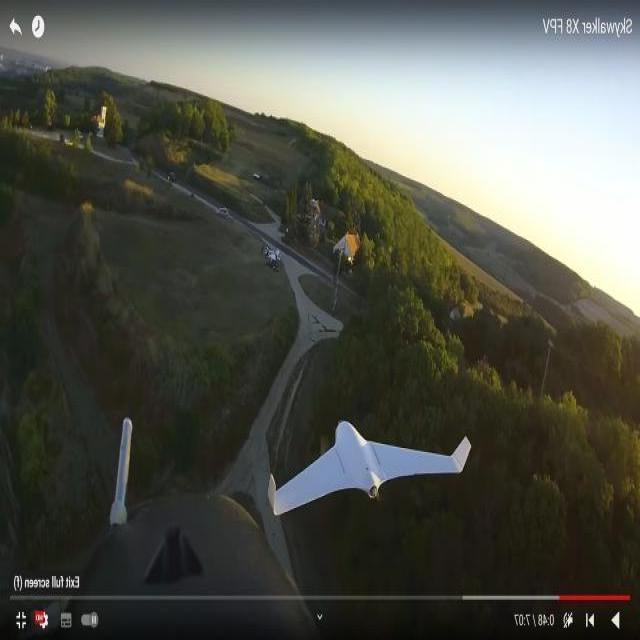Airplane: (264, 406, 476, 522)
